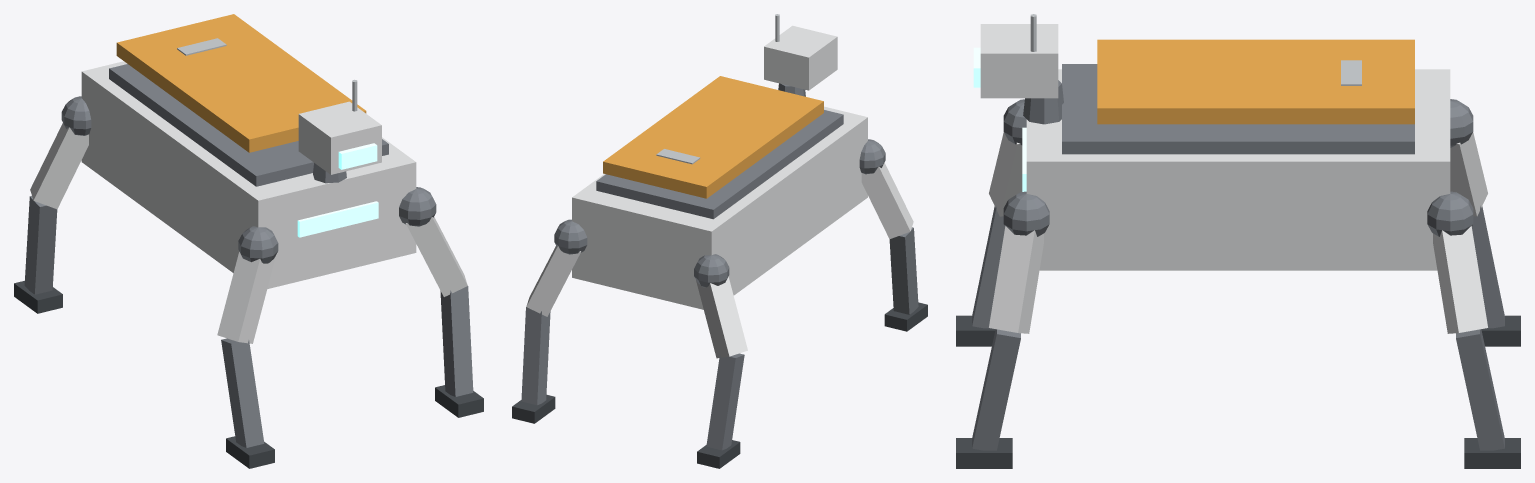
Rendered from quadruped-carrier.glb.
3 views of the same model, side by side, from view 1: azimuth 30°, elevation 25°; view 2: azimuth 150°, elevation 25°; view 3: azimuth 270°, elevation 25° (orthographic). The views are drawn at different scales.
Visible parts, largest first — view 1: quadruped-carrier, lid-cargo/orange, head/shell, head/glow; view 2: quadruped-carrier, lid-cargo/orange, head/shell; view 3: quadruped-carrier, lid-cargo/orange, head/shell, head/graphite.
Boxes of the visible parts, box(x1,y1,x2,y2) form: quadruped-carrier: box(14, 61, 483, 468); lid-cargo/orange: box(116, 14, 366, 152); head/shell: box(298, 101, 381, 174); head/glow: box(338, 143, 377, 169); quadruped-carrier: box(512, 106, 927, 468); lid-cargo/orange: box(603, 76, 823, 198); head/shell: box(764, 25, 837, 90); quadruped-carrier: box(956, 64, 1520, 468); lid-cargo/orange: box(1097, 39, 1414, 124); head/shell: box(980, 24, 1058, 98); head/graphite: box(1023, 80, 1063, 124).
Bounding box in the file's own units: 0.97 × 1.24 × 1.6.
